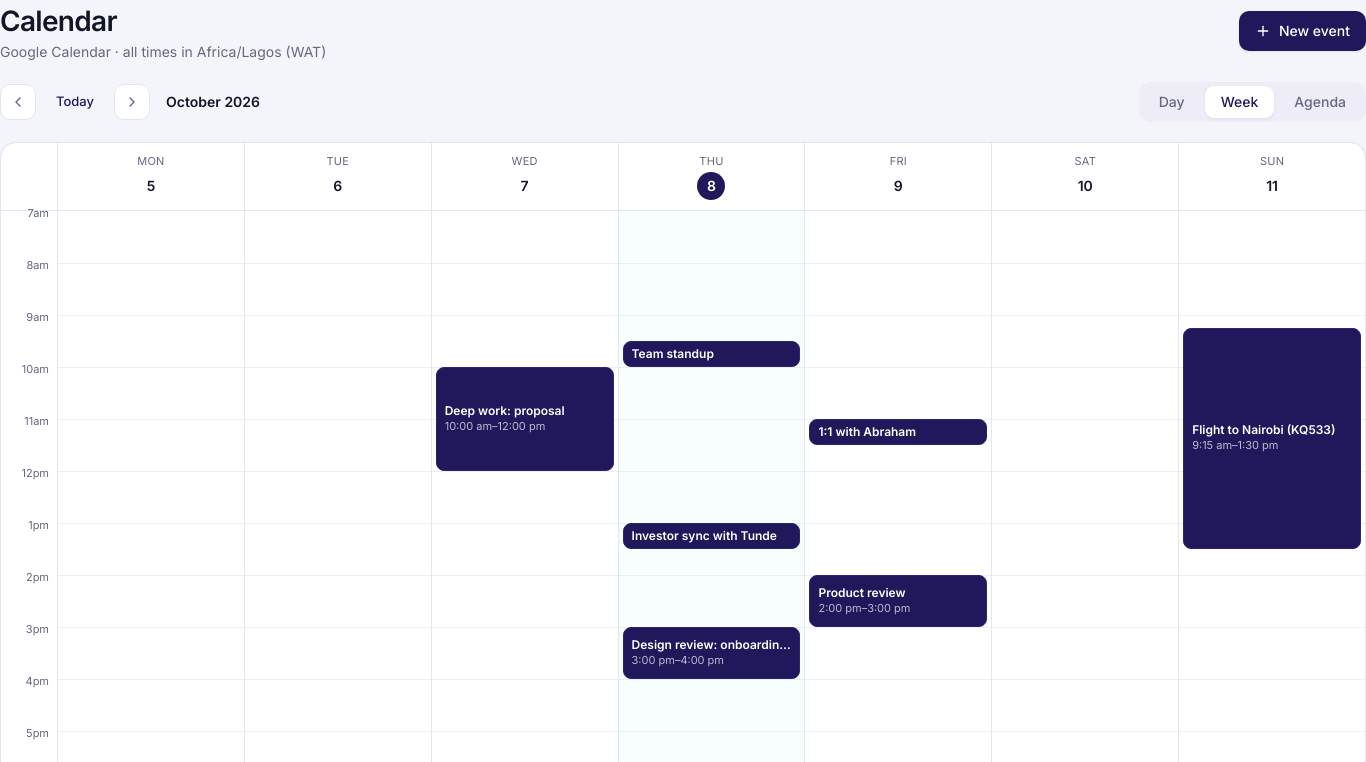
Calendar page › agenda view lists upcoming events grouped by day
Click the tab "Agenda".
click(1320, 102)  # box [1278,86,1362,118]
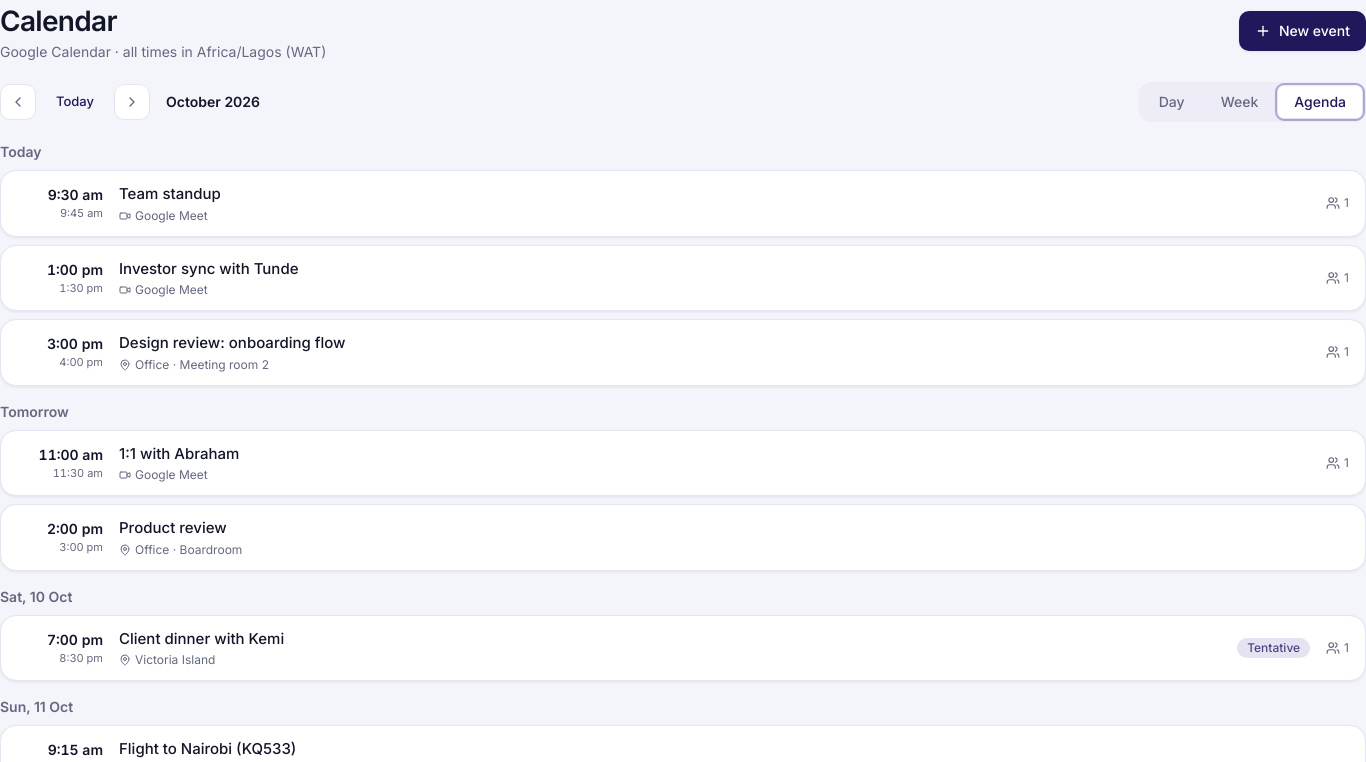
Expected: the text "Investor sync with Tunde" is shown, [119,258,298,278]
Expected: the text "Tentative" is shown, [1237,638,1310,658]
